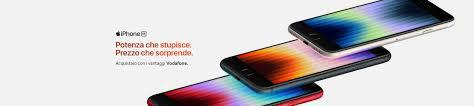Smartphone: (229, 41, 383, 91), (306, 0, 457, 50), (134, 81, 345, 106)
